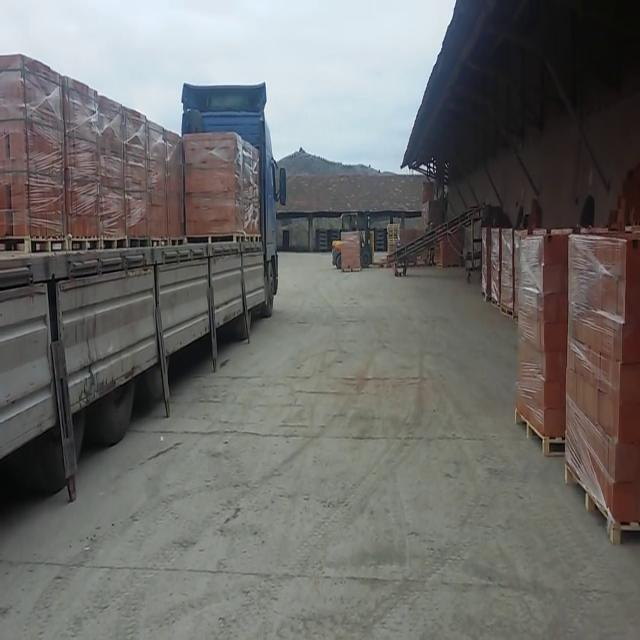Chariot elevateur: (329, 204, 379, 276)
